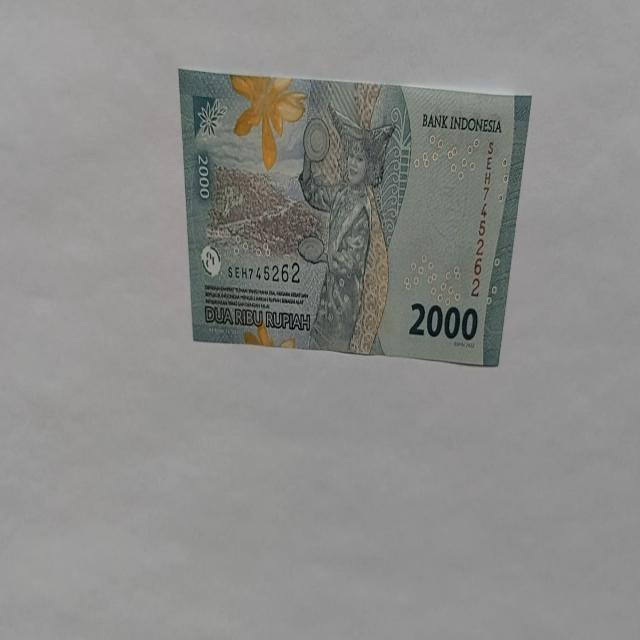dua ribu rupiah: (178, 71, 532, 366), (296, 104, 396, 354), (229, 73, 307, 171)
